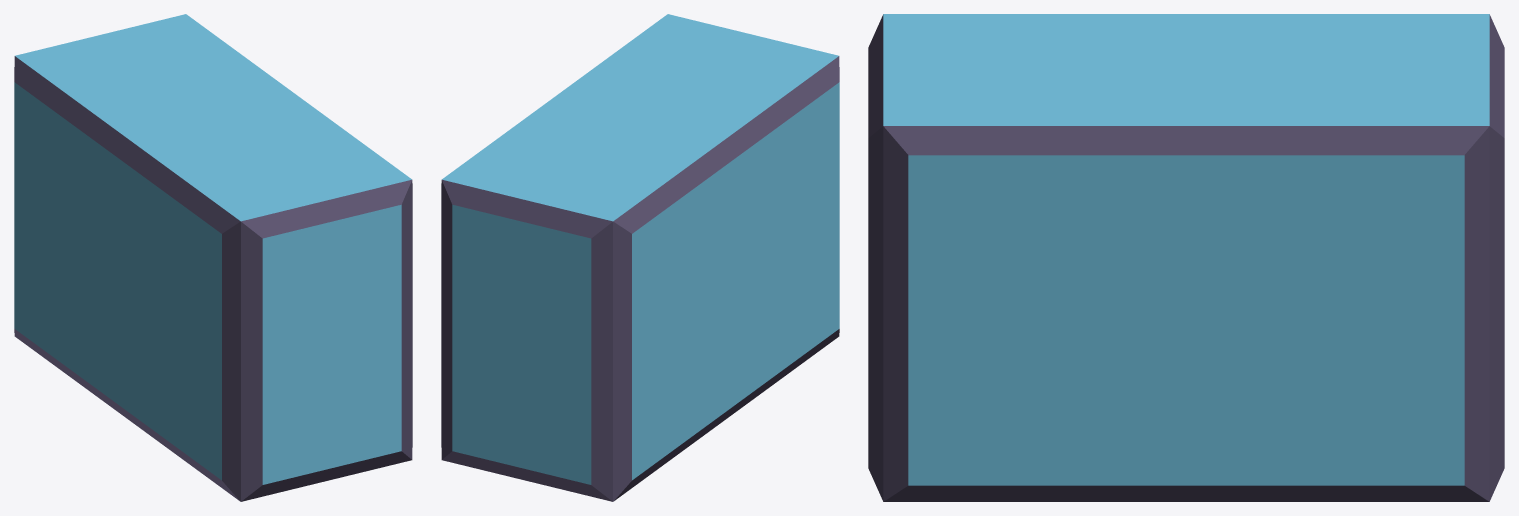
File: projectBuilding.glb
3 renders of one model, left to right at view 1: azimuth 30°, elevation 25°; view 2: azimuth 150°, elevation 25°; view 3: azimuth 270°, elevation 25°, orthographic. The views are drawn at different scales.
Parts seen in each view (by area): view 1: Projects Building; view 2: Projects Building; view 3: Projects Building.
Part boxes in pixels (x1,y1,x2,y2): Projects Building: (14, 14, 412, 501); Projects Building: (441, 14, 839, 501); Projects Building: (868, 14, 1504, 501).
Size of the model in its own units: 9.89 by 13.9 by 21.32.
